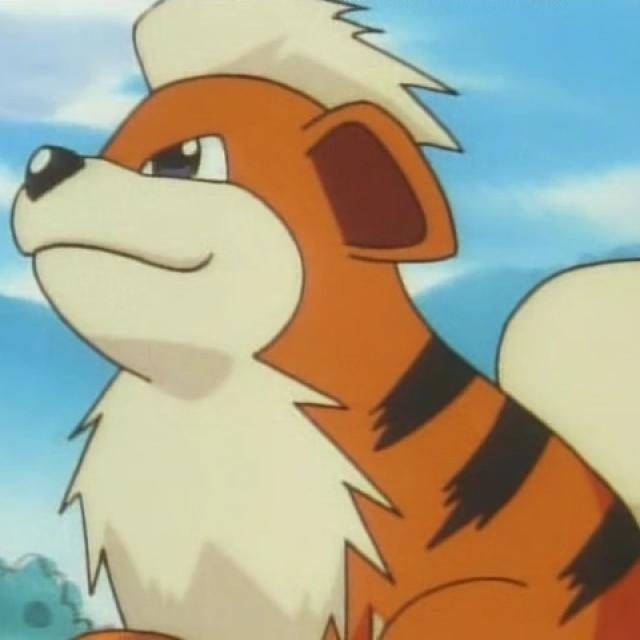Growlithe: (14, 2, 640, 640)
